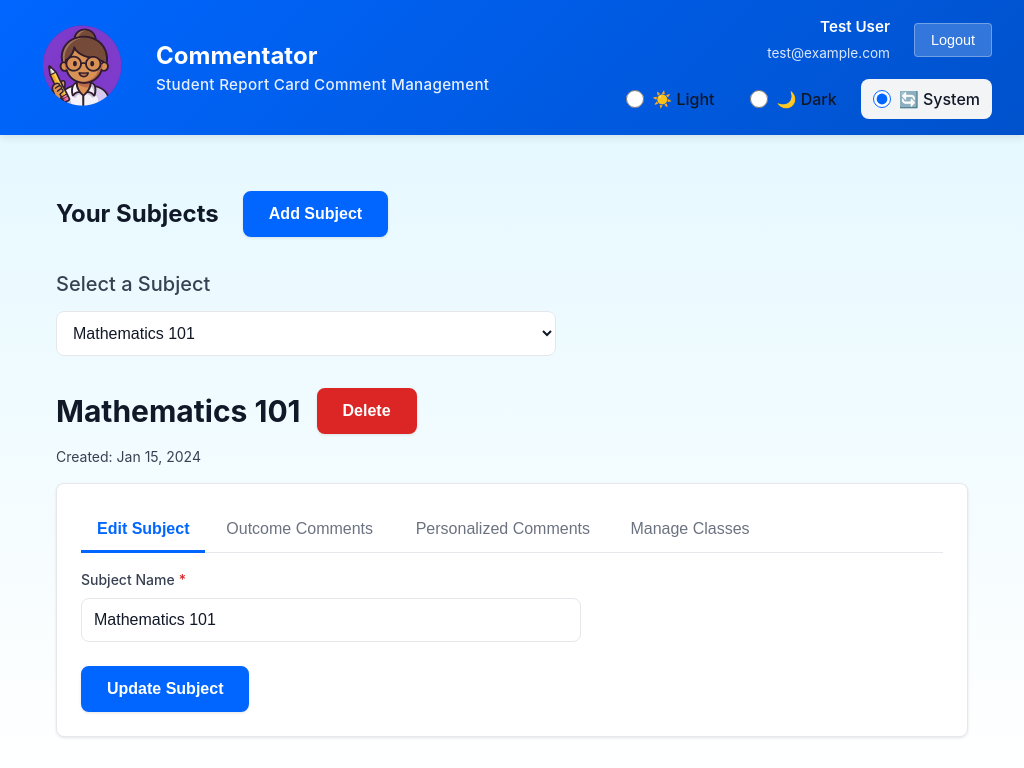
App › Delete Flow Integration › should handle delete errors gracefully
Select Mathematics 101 from dropdown
Select "Mathematics 101" in the dropdown named "select a subject to view" at (306, 334), box left=56, top=311, right=556, bottom=356
Expected: the element with test id "subject-item-65a1b2c3d4e5f6g7h8i9j0k1" is shown, left=56, top=388, right=968, bottom=737
Click delete button
Click the button with aria-label "delete mathematics 101" at (366, 411), box left=316, top=388, right=416, bottom=434
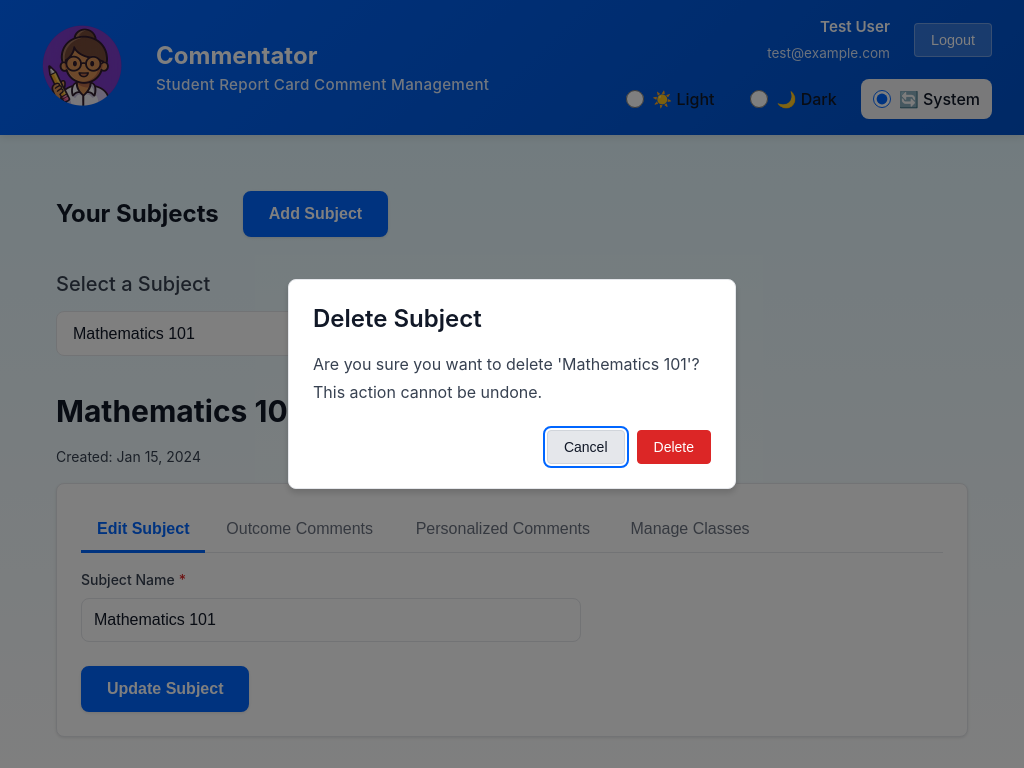
Now the dialog is shown, box left=288, top=279, right=736, bottom=489
Confirm deletion
Click the button "Delete" at (674, 447), box left=636, top=430, right=711, bottom=464
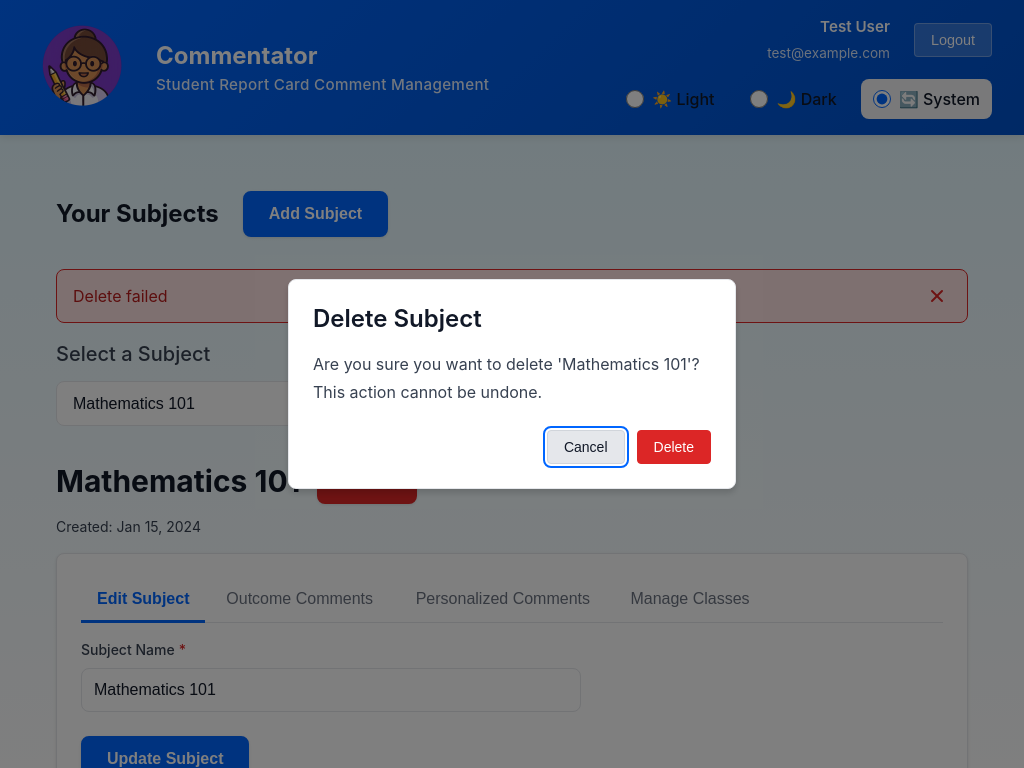
Now the dialog is shown, box left=288, top=279, right=736, bottom=489
Now the text "Delete failed" is shown, box left=73, top=284, right=168, bottom=308
